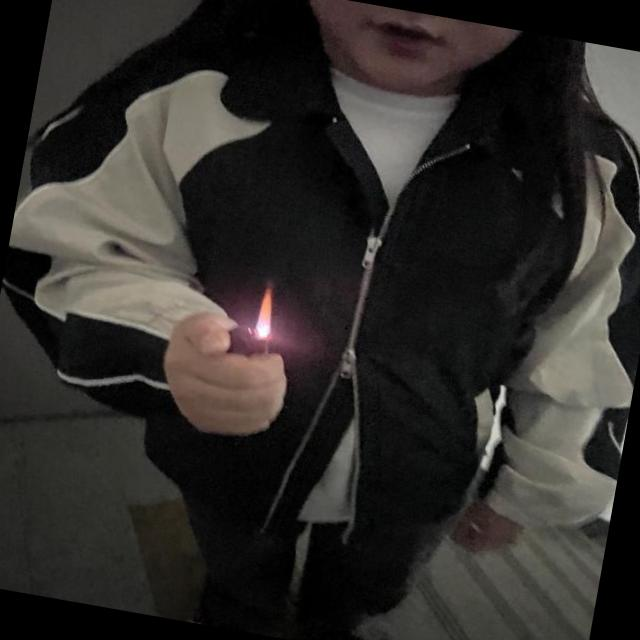Fire: (252, 279, 279, 339)
